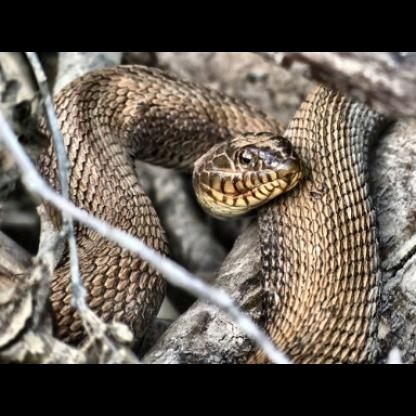Snake: (9, 61, 347, 362)
